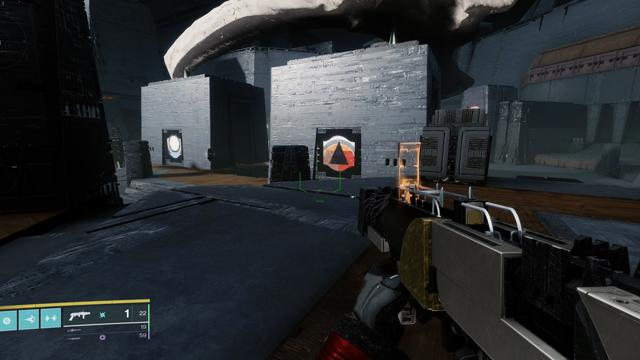pyramid: (323, 135, 356, 171)
traveler: (166, 134, 182, 159)
